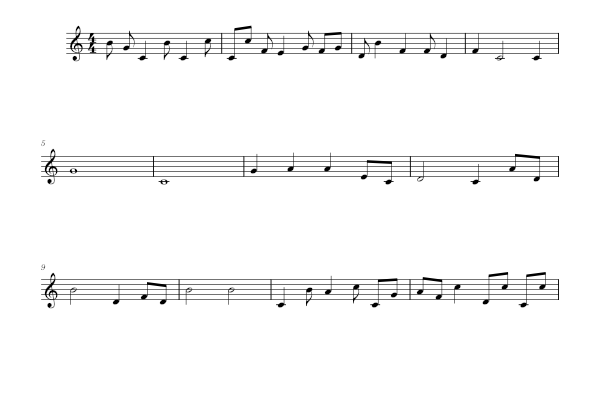Treble Clef: (66, 20, 86, 64), (41, 272, 61, 312), (41, 147, 61, 187)
